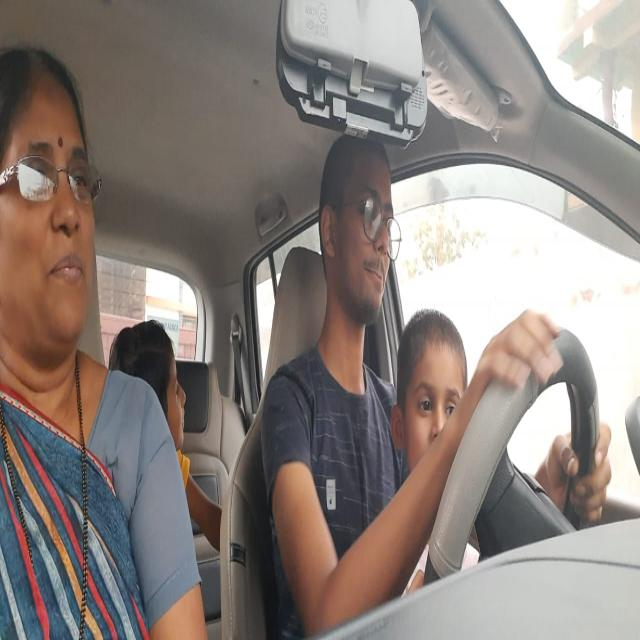child: (393, 304, 473, 510)
person: (1, 45, 103, 383), (318, 121, 403, 335), (108, 313, 191, 468)
